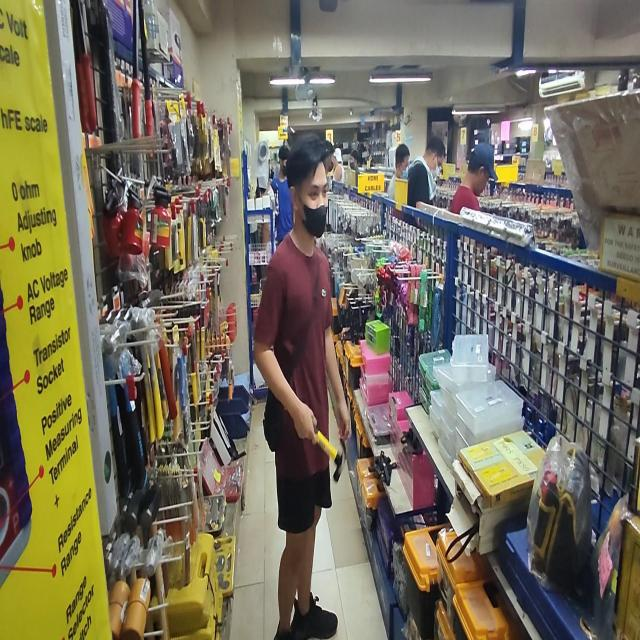hammer: (314, 421, 346, 484)
